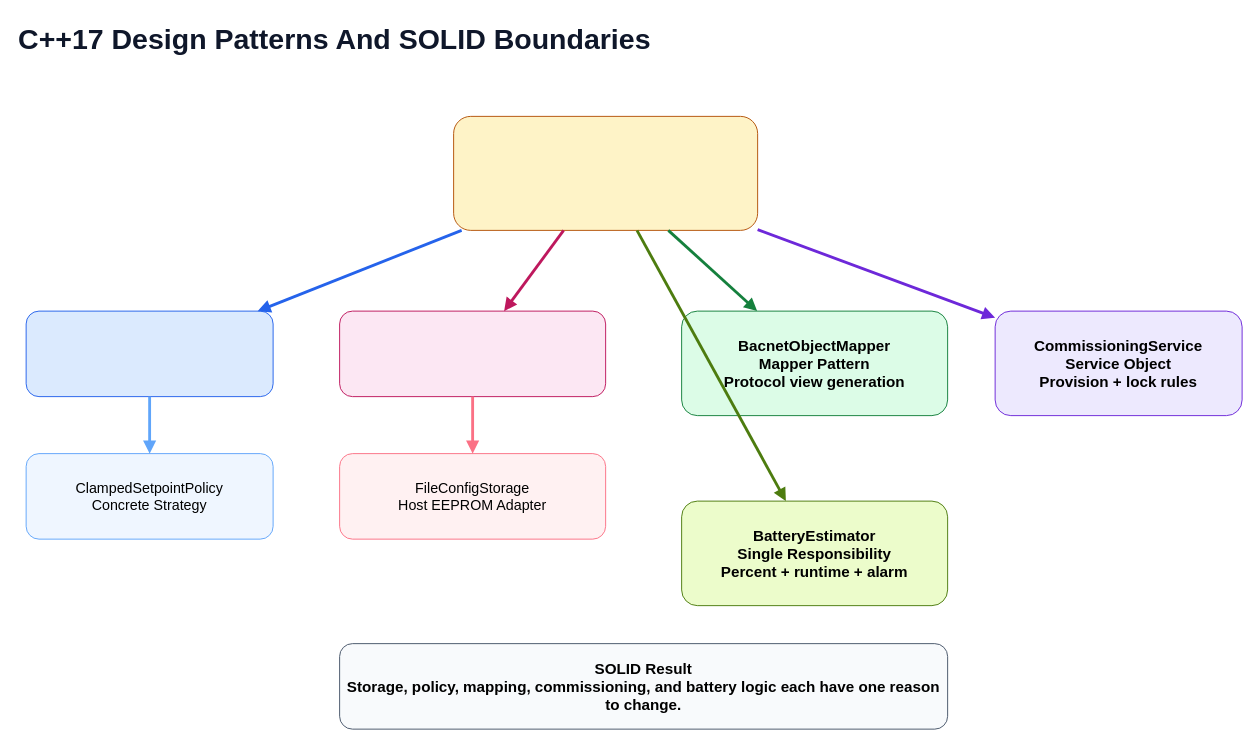
The diagram is 1259 pixels wide and 746 high, and some of its shapes have lost their labels. Here are the shapes that lost their labels. From the top down, the centre of each, then its label:
[605,172]: FieldNode Facade / Aggregate Root Coordinates domain services
[149,353]: ISetpointPolicy Strategy Interface
[472,353]: IConfigStorage Repository / Adapter Interface
